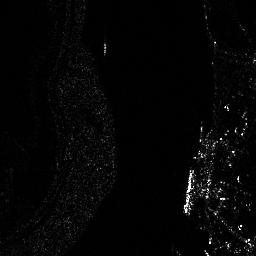ship: (182, 168, 194, 215)
